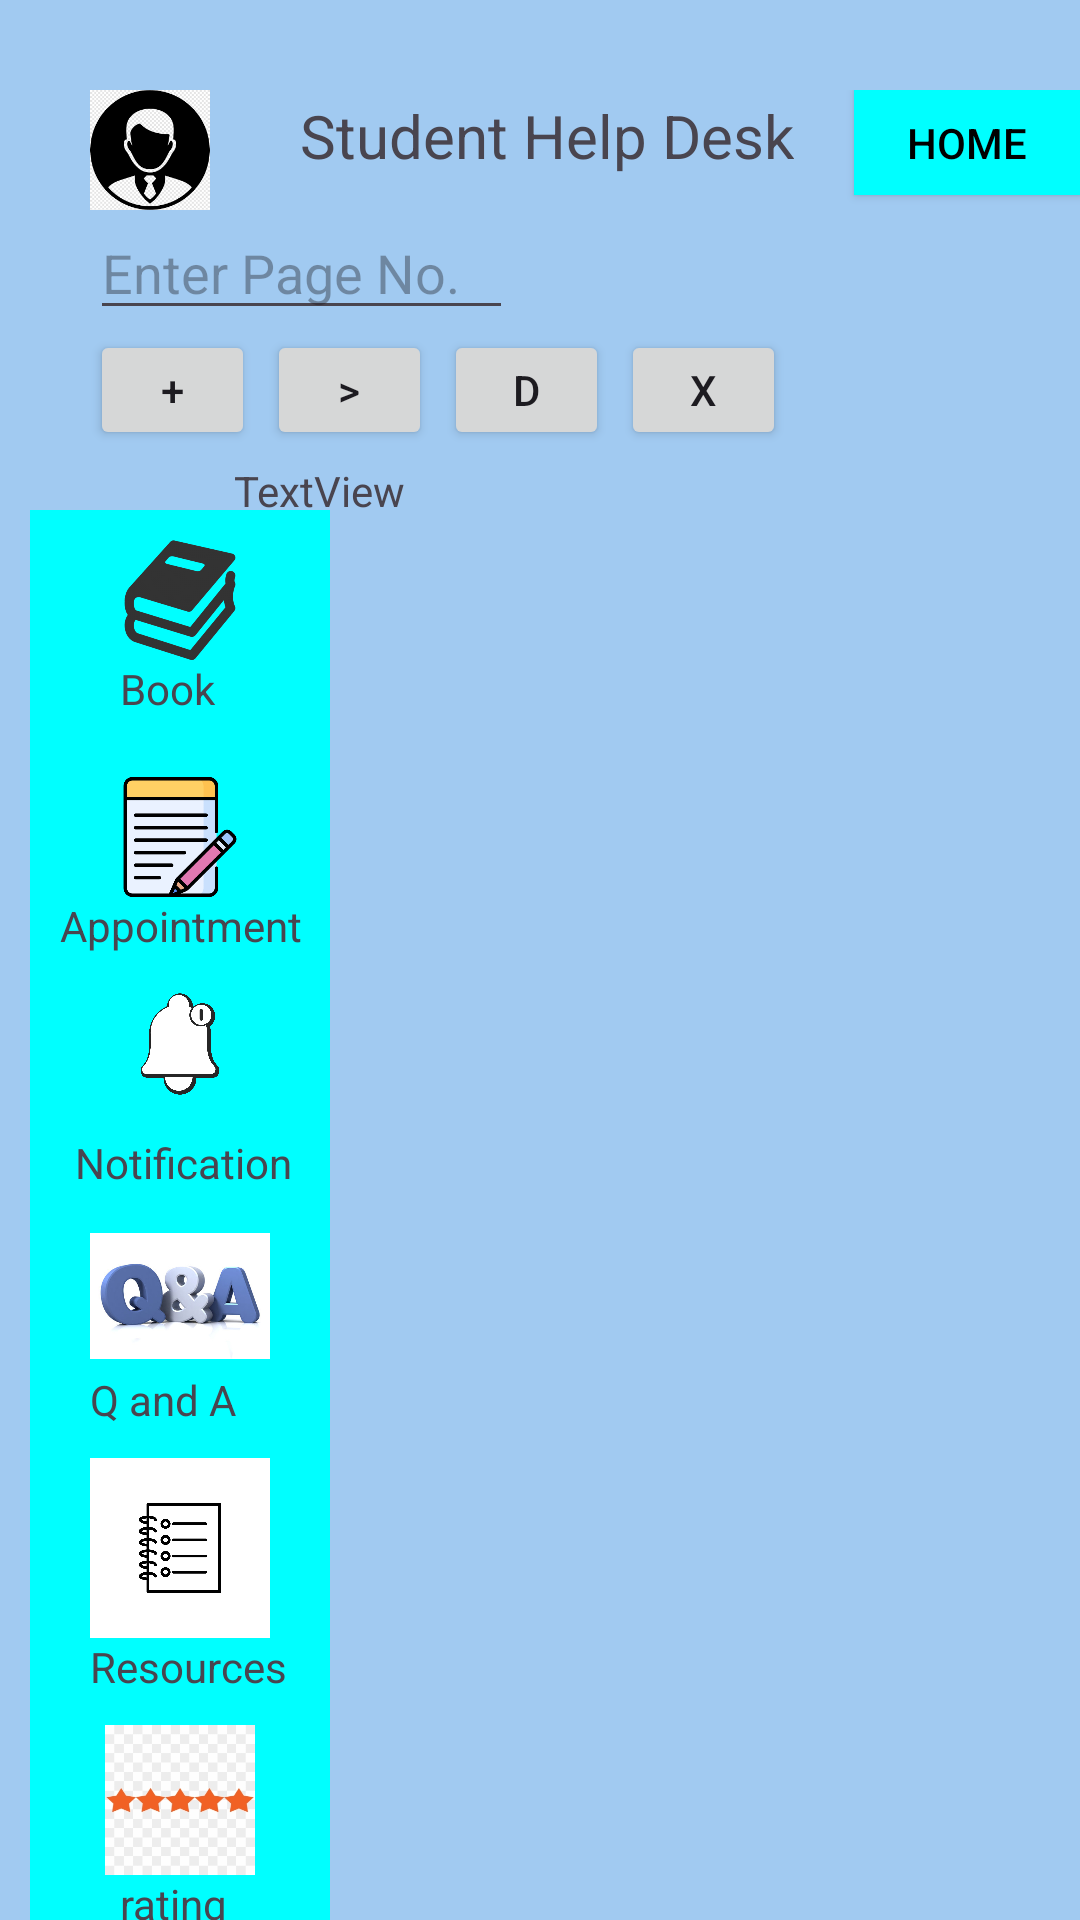

Icon click points for this 1080 x 1920 phone screenshot, format (x,y):
profile: (150,150)
